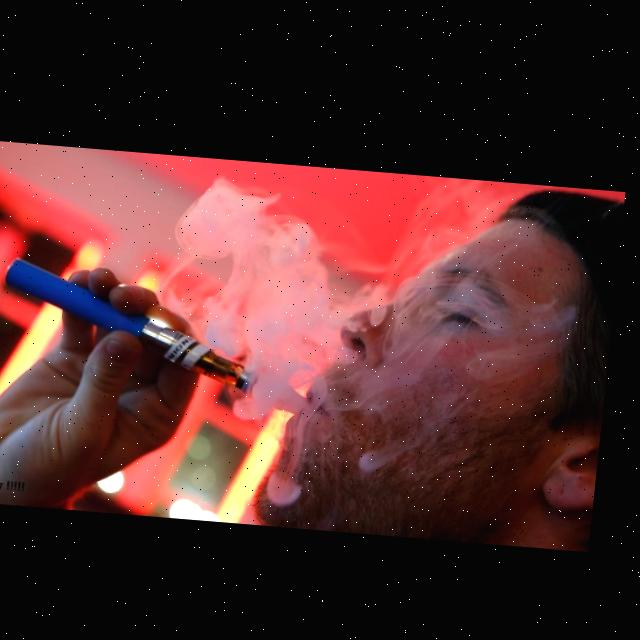vape: (3, 255, 280, 392)
